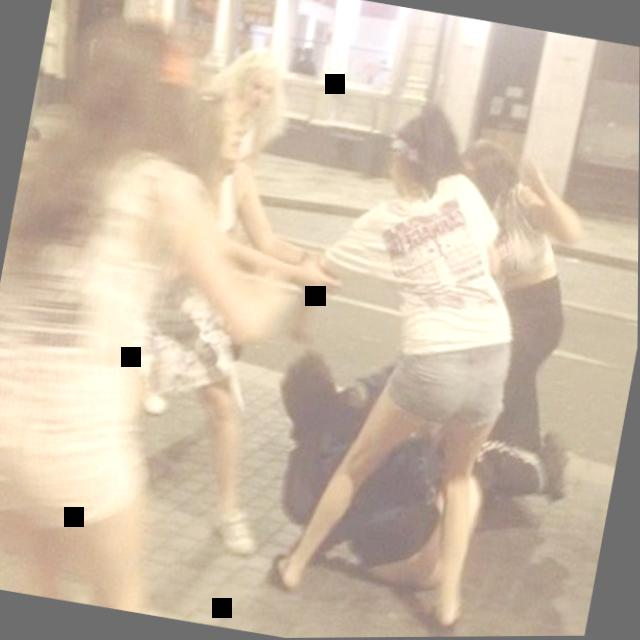Fall-Detected: (240, 331, 608, 624)
